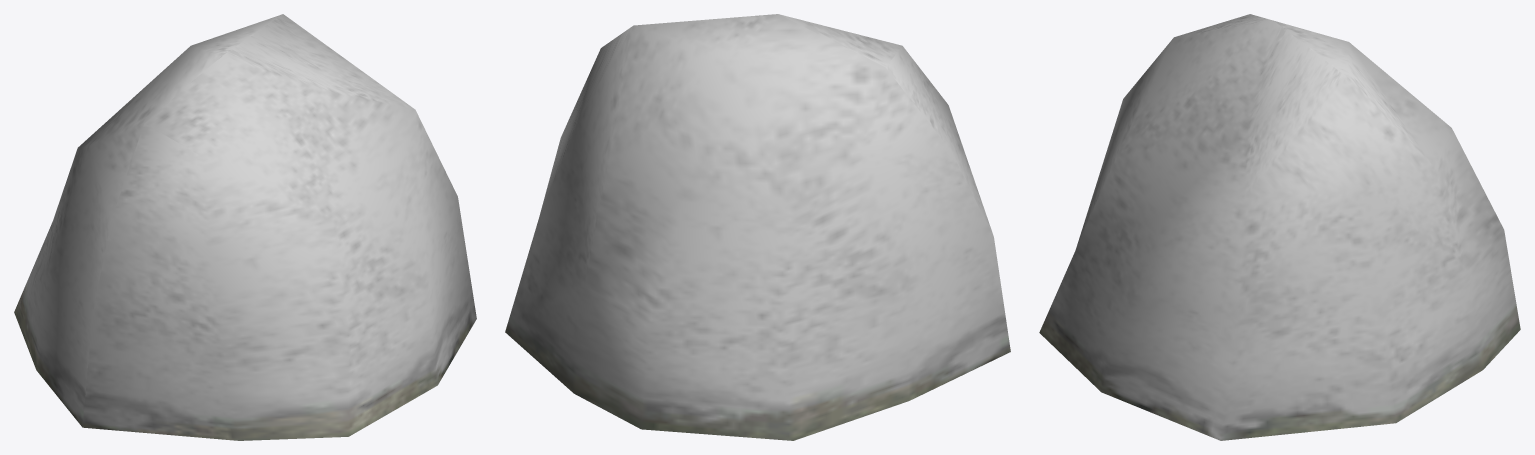
File: general_obj_stone07.fbx
3 views of the same model, side by side, from view 1: azimuth 30°, elevation 25°; view 2: azimuth 150°, elevation 25°; view 3: azimuth 270°, elevation 25° (orthographic). The views are drawn at different scales.
Visible parts, largest first — view 1: Sphere01; view 2: Sphere01; view 3: Sphere01.
Boxes of the visible parts, x1,y1,x2,y2 form: Sphere01: (14, 14, 476, 440); Sphere01: (505, 14, 1010, 440); Sphere01: (1039, 14, 1520, 440).
Size of the model in its own units: 3.67 by 2.58 by 3.68.
